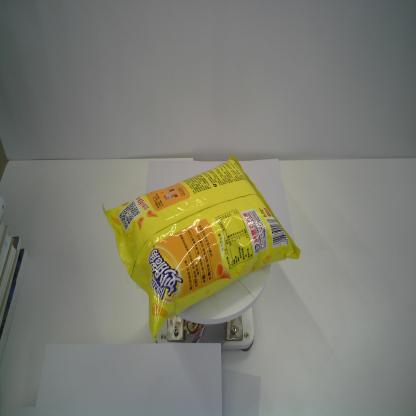Puffed Food: (99, 152, 301, 338)
